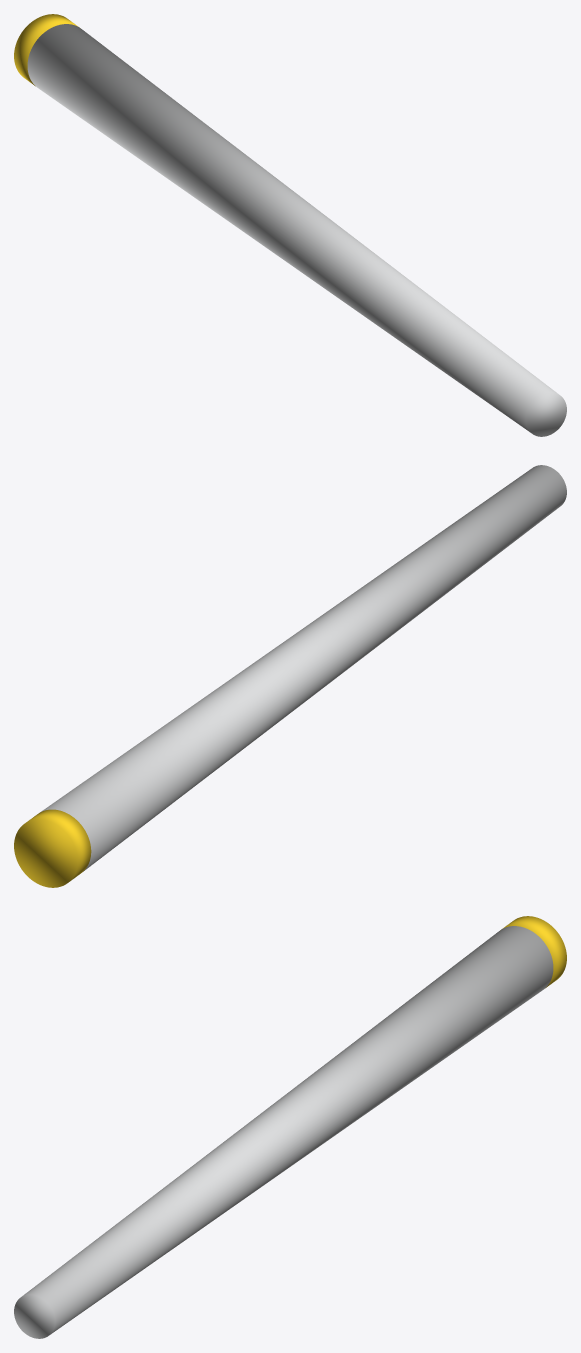
Rendered from tower.obj.
3 renders of one model, top to bottom at view 1: azimuth 30°, elevation 25°; view 2: azimuth 150°, elevation 25°; view 3: azimuth 330°, elevation 25°, orthographic.
Visible parts, largest first — view 1: tower; view 2: tower; view 3: tower.
Part boxes in pixels (box(x1,y1,x2,y2)): tower: box(14, 14, 566, 436); tower: box(14, 465, 566, 887); tower: box(14, 916, 566, 1338).
Size of the model in its own units: 6.8 by 6.8 by 92.5.
